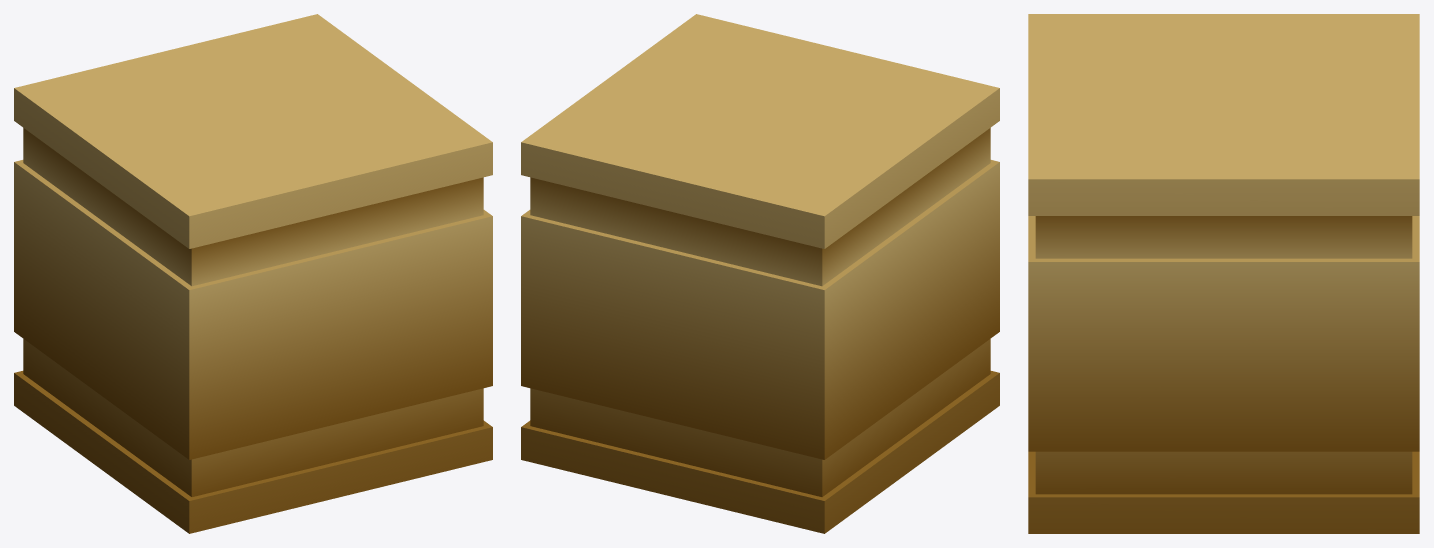
File: Enviroment__Cube_002.fbx
3 renders of one model, left to right at view 1: azimuth 30°, elevation 25°; view 2: azimuth 150°, elevation 25°; view 3: azimuth 270°, elevation 25°, orthographic. The views are drawn at different scales.
Visible parts, largest first — view 1: Cube.031; view 2: Cube.031; view 3: Cube.031.
Part boxes in pixels (x1=…): Cube.031: x1=14, y1=14, x2=492, y2=533; Cube.031: x1=521, y1=14, x2=999, y2=533; Cube.031: x1=1028, y1=14, x2=1419, y2=533.
Size of the model in its own units: 20 by 20 by 20.
